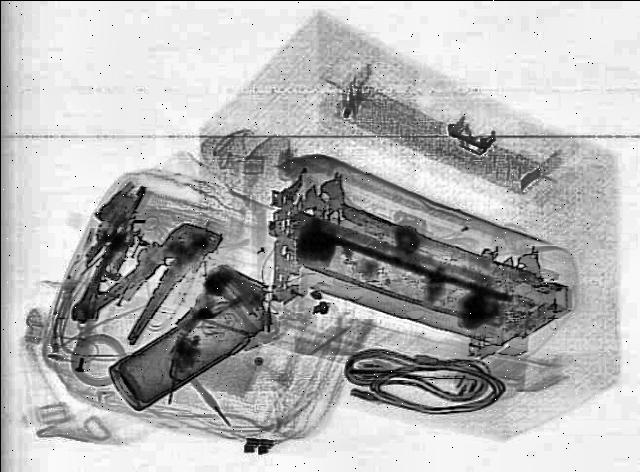Pliers: (65, 210, 228, 344)
